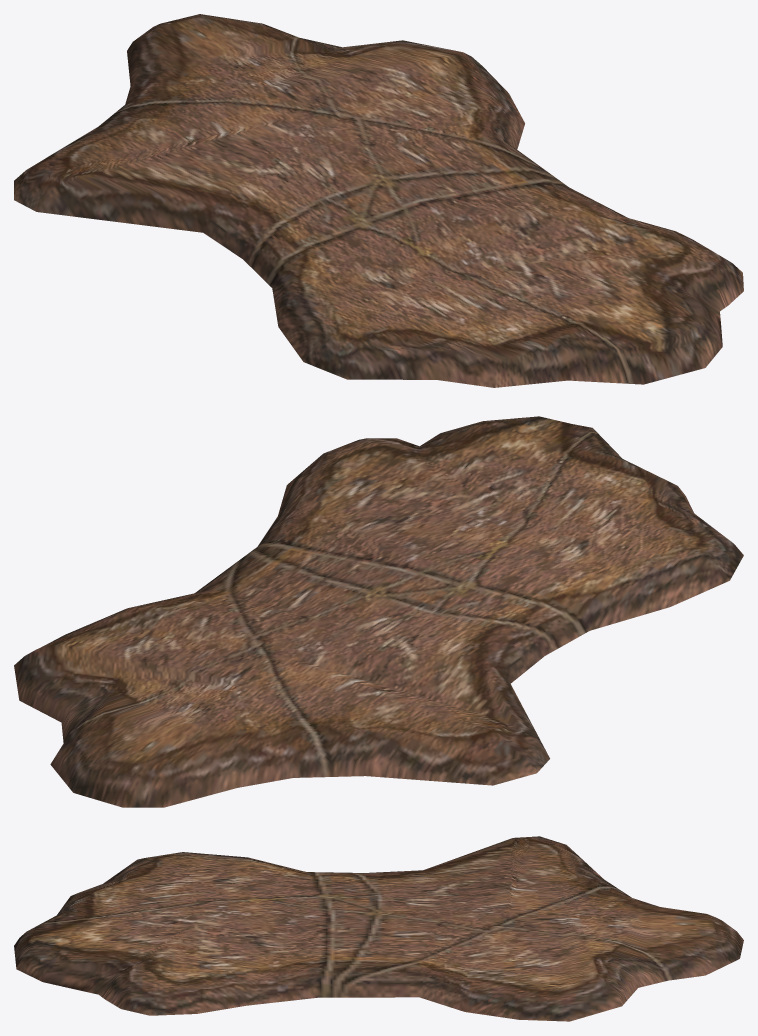
File: con_gen_organic_hide_bristly_l1.fbx
3 renders of one model, top to bottom at view 1: azimuth 30°, elevation 25°; view 2: azimuth 150°, elevation 25°; view 3: azimuth 270°, elevation 25°, orthographic. The views are drawn at different scales.
Parts seen in each view (by area): view 1: mesh_node; view 2: mesh_node; view 3: mesh_node.
Boxes of the visible parts, left/top/right/bottom form: mesh_node: left=14, top=14, right=743, bottom=387; mesh_node: left=14, top=416, right=743, bottom=807; mesh_node: left=14, top=836, right=743, bottom=1021.
Bounding box in the file's own units: 1.16 × 0.0806 × 1.98.
